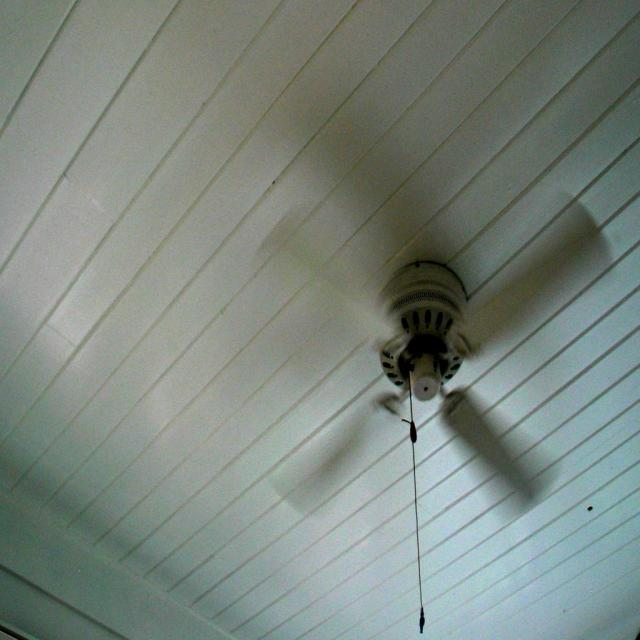fan_on: (259, 192, 607, 518)
